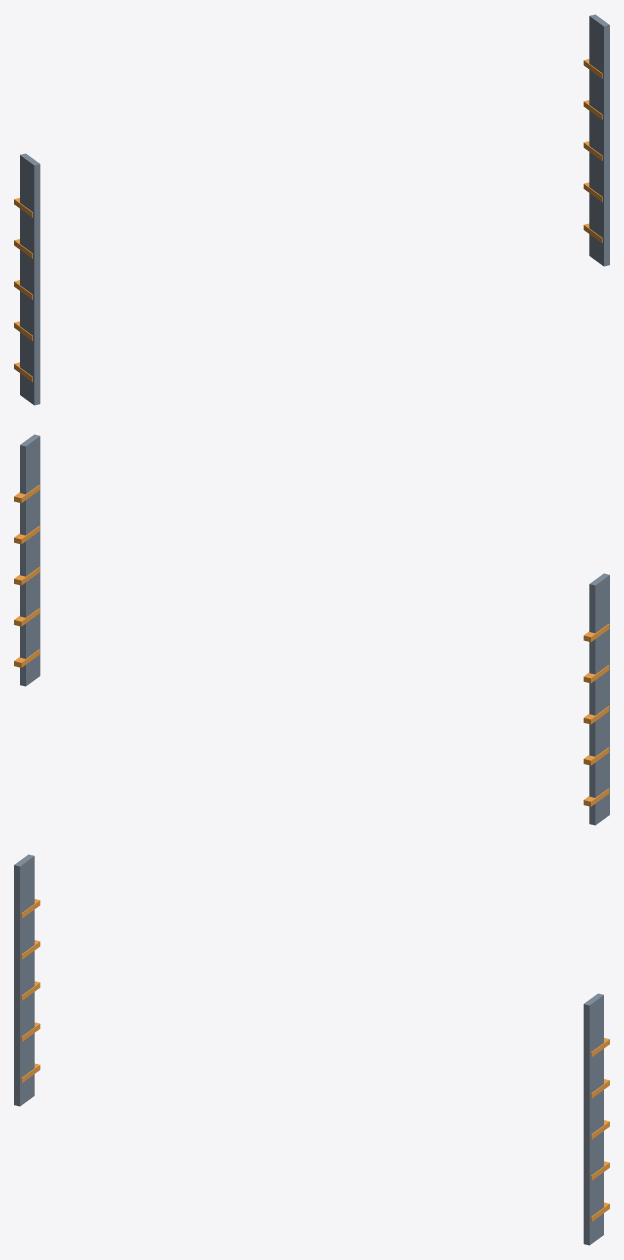
File: 08_PS_Studio_WindowExternalLightBaffles.fbx
3 views of the same model, one above another, from view 1: azimuth 30°, elevation 25°; view 2: azimuth 150°, elevation 25°; view 3: azimuth 330°, elevation 25° (orthographic).
Visible parts, largest first — view 1: PS_Studio_WindowExternalLightBaffles; view 2: PS_Studio_WindowExternalLightBaffles; view 3: PS_Studio_WindowExternalLightBaffles.
Boxes of the visible parts, x1,y1,x2,y2 form: PS_Studio_WindowExternalLightBaffles: (14,14,609,405); PS_Studio_WindowExternalLightBaffles: (14,434,609,825); PS_Studio_WindowExternalLightBaffles: (14,854,609,1245).
Size of the model in its own units: 1145 by 455 by 67.5.
